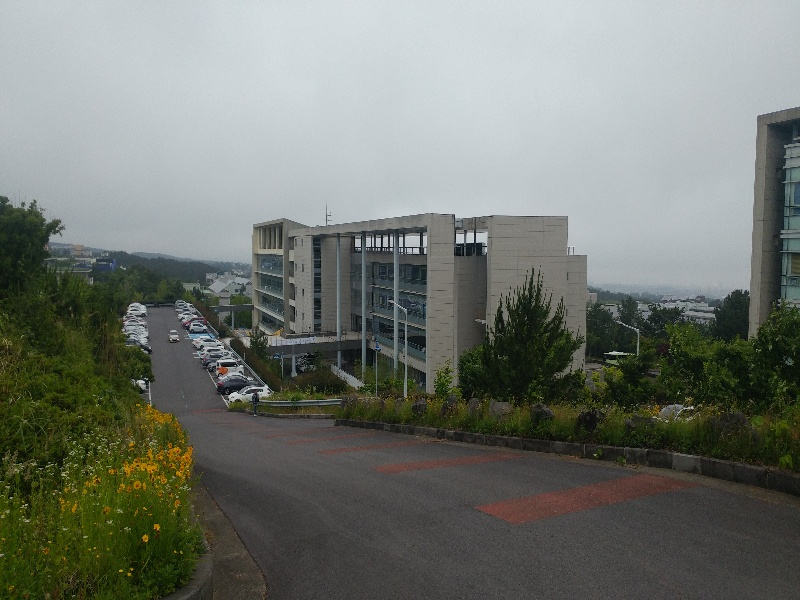Engineering College Building 4: (254, 197, 586, 376)
